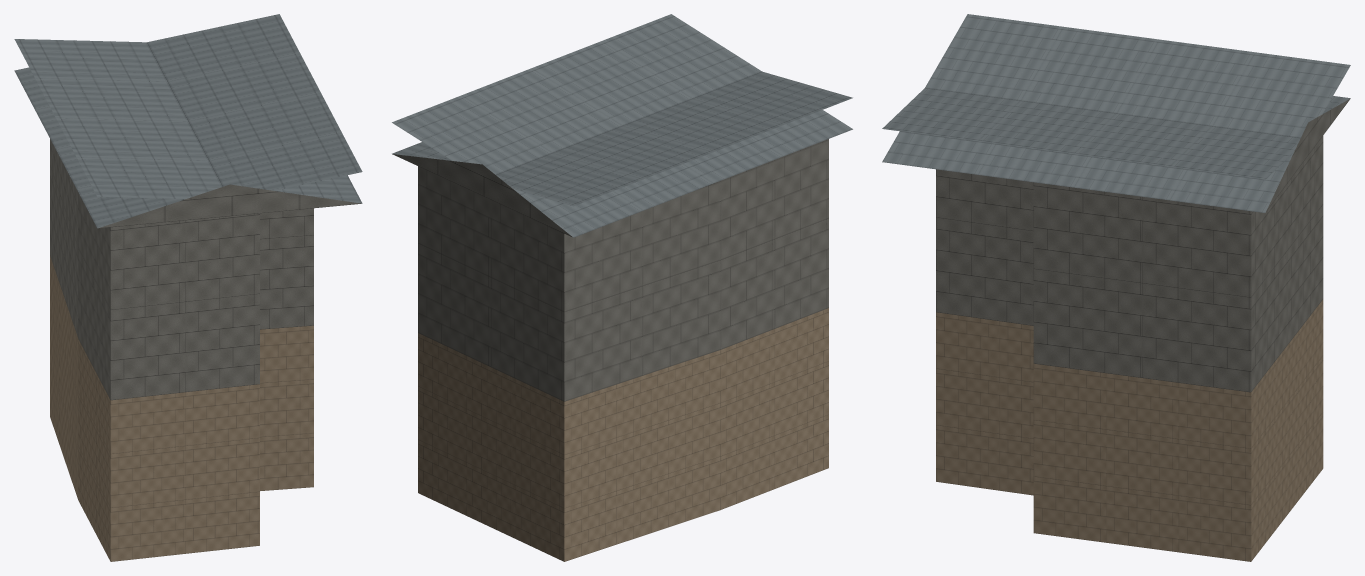
File: bld_c-19_19_518.gltf
3 renders of one model, left to right at view 1: azimuth 30°, elevation 25°; view 2: azimuth 150°, elevation 25°; view 3: azimuth 270°, elevation 25°, orthographic. The views are drawn at different scales.
Parts seen in each view (by area): view 1: bld_c-19_19_518; view 2: bld_c-19_19_518; view 3: bld_c-19_19_518.
Boxes of the visible parts, bbox=[...] form: bld_c-19_19_518: bbox=[14, 14, 362, 561]; bld_c-19_19_518: bbox=[392, 14, 852, 561]; bld_c-19_19_518: bbox=[882, 14, 1350, 561].
Size of the model in its own units: 10.71 by 11.8 by 12.79.
4 materials, 4 textured.
